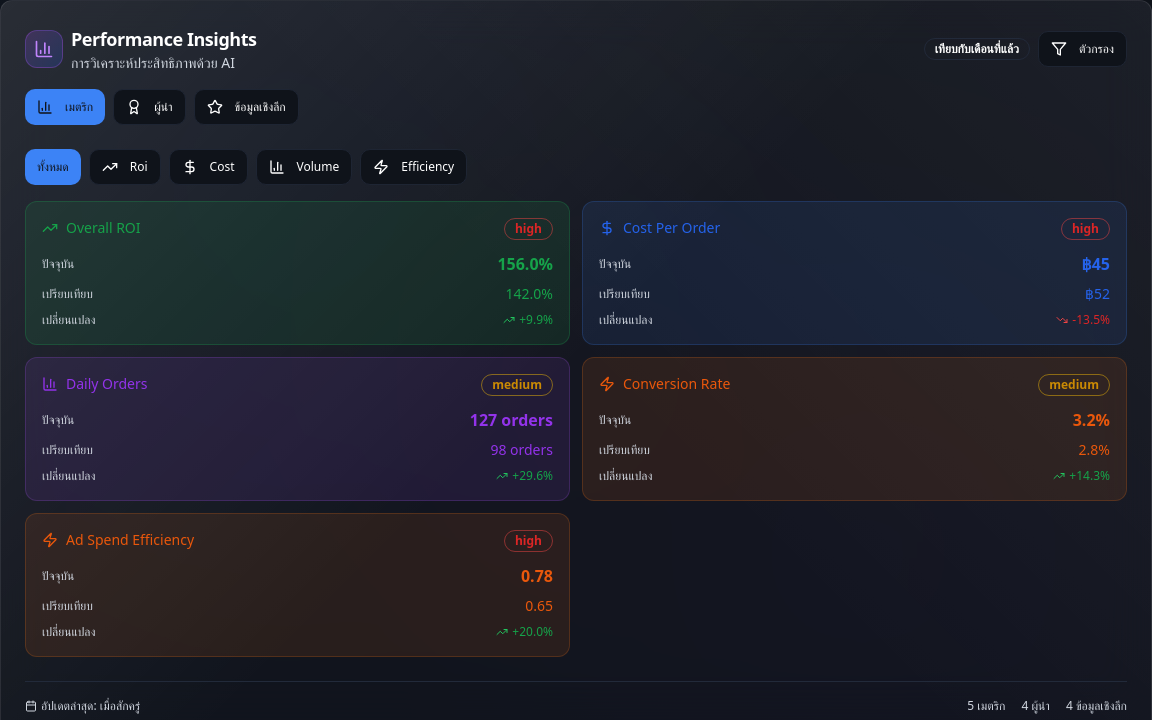
Test: PerformanceInsights › displays different insight types with correct styling
The width and height of the screenshot is (1152, 720).
Click the button "ข้อมูลเชิงลึก" at (246, 107), box [194, 89, 299, 125]
(page scrolled)
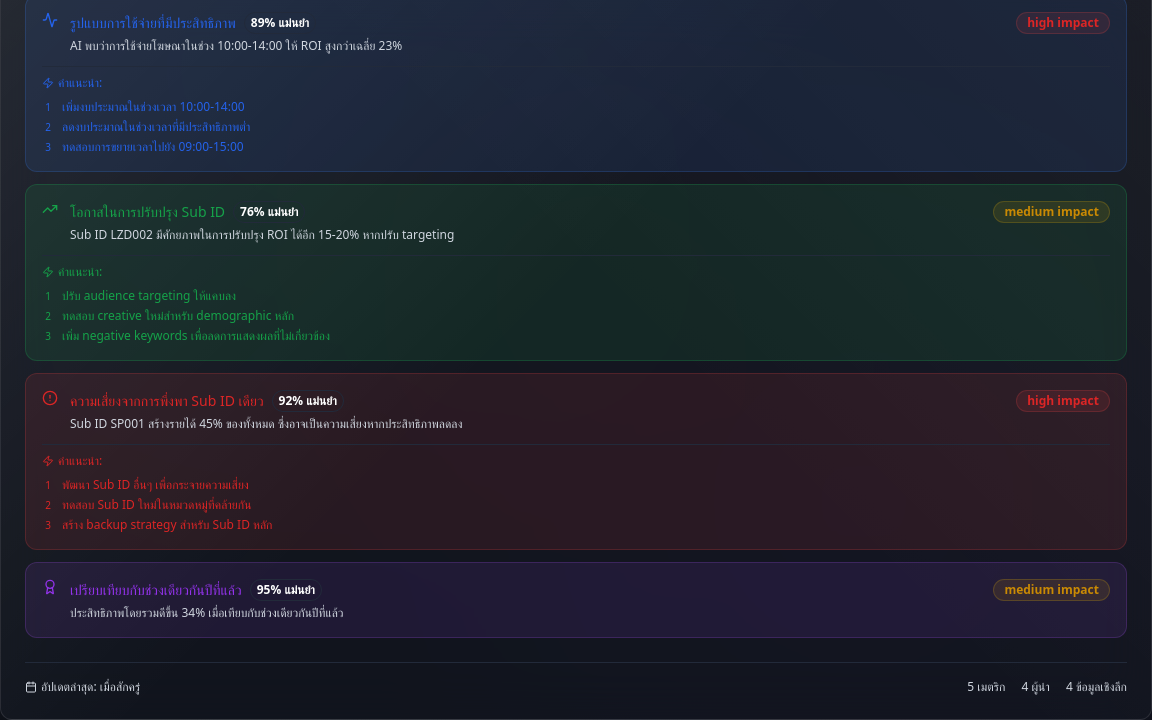
Expected: the heading "รูปแบบการใช้จ่ายที่มีประสิทธิภาพ" is shown, [70, 13, 236, 33]
Expected: the heading "โอกาสในการปรับปรุง Sub ID" is shown, [70, 202, 225, 222]
Expected: the heading "ความเสี่ยงจากการพึ่งพา Sub ID เดียว" is shown, [70, 391, 264, 411]
